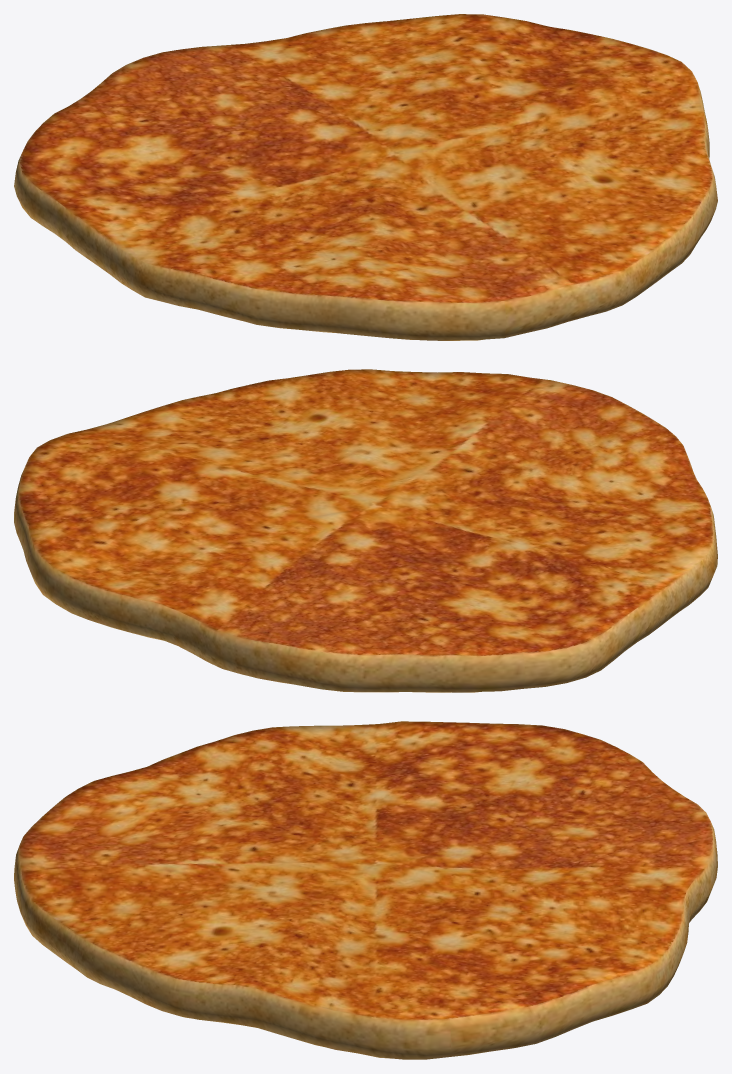
File: savory-pancake.glb
The picture shows the model from 3 angles, top to bottom: view 1: azimuth 30°, elevation 25°; view 2: azimuth 150°, elevation 25°; view 3: azimuth 270°, elevation 25°; orthographic projection. The views are drawn at different scales.
Parts seen in each view (by area): view 1: savory-pancake; view 2: savory-pancake; view 3: savory-pancake.
Part boxes in pixels (x1,y1,x2,y2): savory-pancake: (14,14,717,340); savory-pancake: (14,369,717,692); savory-pancake: (14,721,717,1059).
Size of the model in its own units: 2.4 by 0.1906 by 2.32.
1 material, 1 textured.
